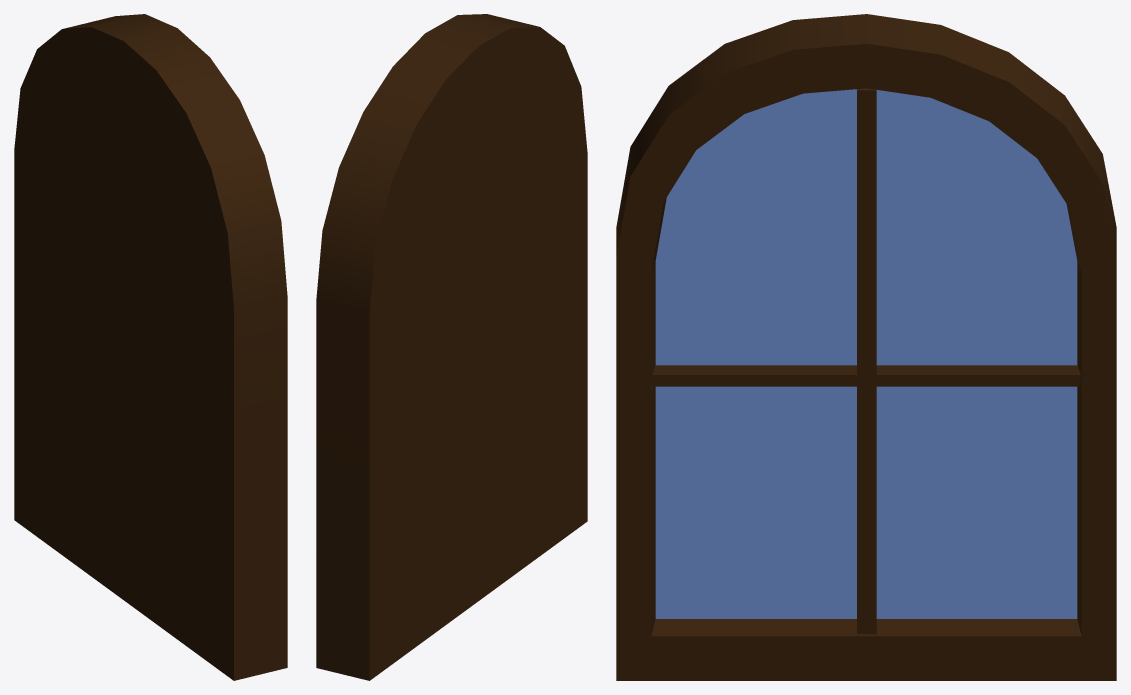
The model's file is Ventana.fbx.
The picture shows the model from 3 angles, left to right: view 1: azimuth 30°, elevation 25°; view 2: azimuth 150°, elevation 25°; view 3: azimuth 270°, elevation 25°; orthographic projection. The views are drawn at different scales.
Visible parts, largest first — view 1: svgMesh1; view 2: svgMesh1; view 3: svgMesh1.
Part boxes in pixels (left/top/right/bottom): svgMesh1: left=14, top=14, right=287, bottom=680; svgMesh1: left=316, top=14, right=587, bottom=680; svgMesh1: left=616, top=14, right=1116, bottom=680.
Bounding box in the file's own units: 51.4 × 513 × 365.
